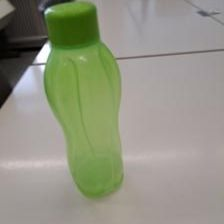bottle: (42, 0, 126, 201)
